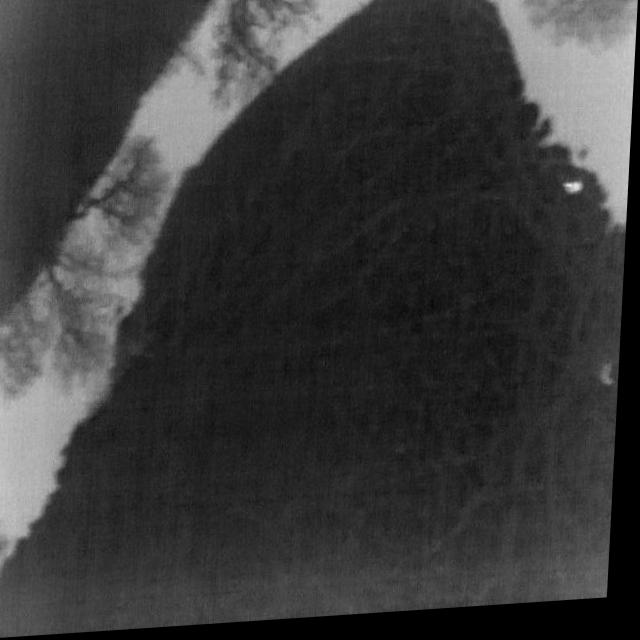deer: (600, 371, 620, 396), (564, 188, 587, 203)
